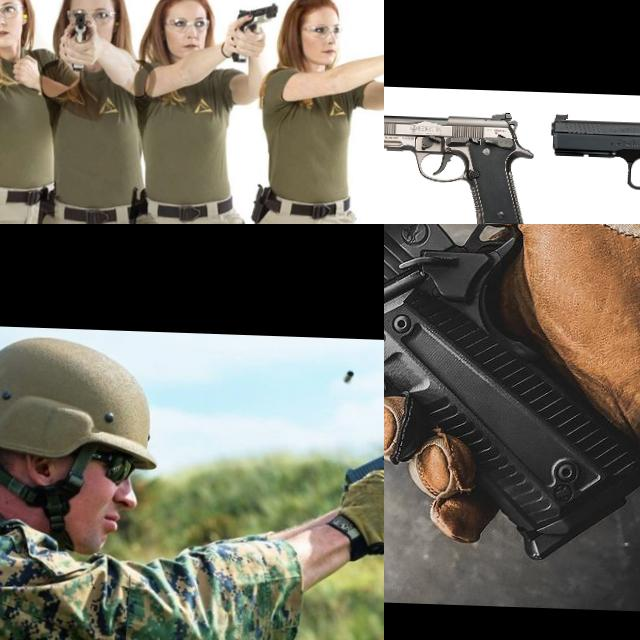handgun: (384, 224, 640, 586), (384, 104, 536, 224), (384, 99, 482, 224), (544, 110, 640, 224), (339, 413, 384, 499), (0, 0, 31, 57), (233, 0, 279, 35), (69, 7, 93, 44), (0, 109, 20, 132)
